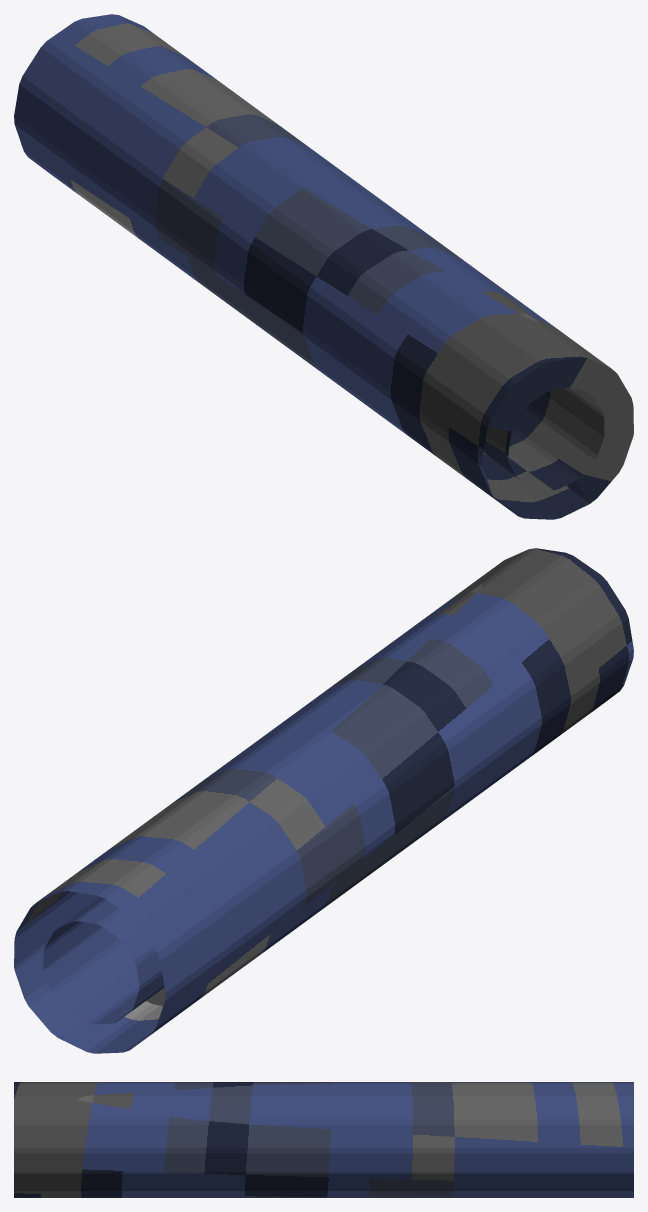
The model's file is SnolfTube5.fbx.
3 views of the same model, one above another, from view 1: azimuth 30°, elevation 25°; view 2: azimuth 150°, elevation 25°; view 3: azimuth 270°, elevation 25° (orthographic). The views are drawn at different scales.
Parts seen in each view (by area): view 1: Cube; view 2: Cube; view 3: Cube.
Part boxes in pixels (bbox=[...]): Cube: bbox=[14, 14, 633, 519]; Cube: bbox=[14, 548, 633, 1053]; Cube: bbox=[14, 1082, 633, 1197].
Bounding box in the file's own units: 1019 × 1022 × 5457.
